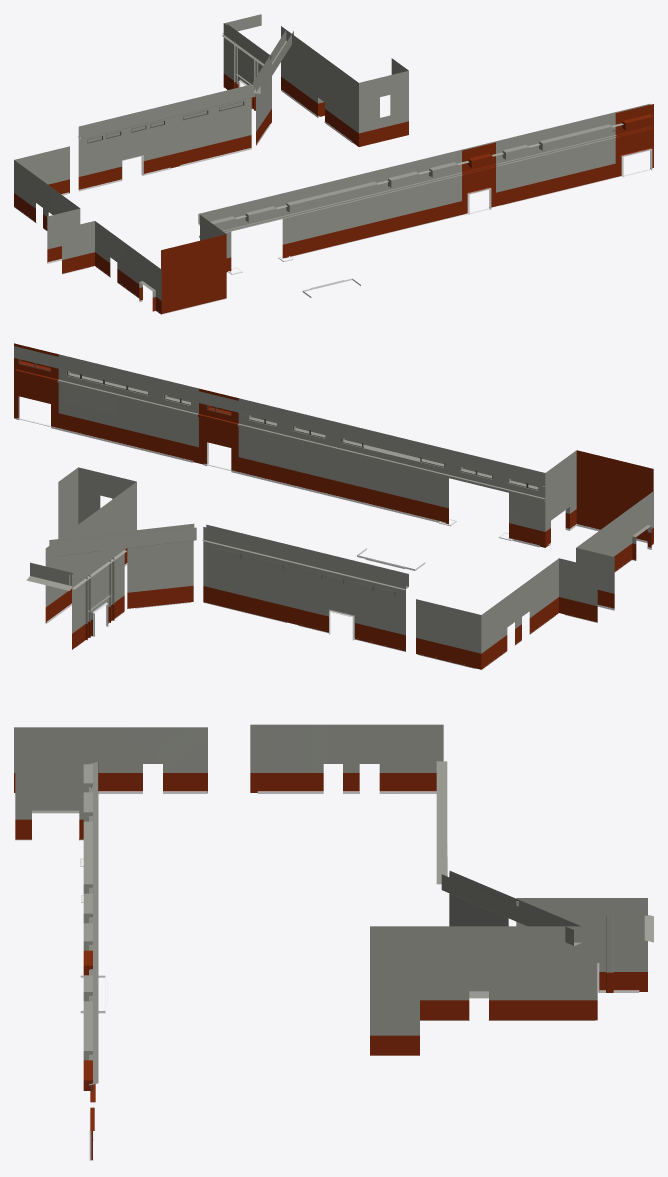
Rendered from SM_H_Building_Tide_Loungehall_10_ATLAS.fbx.
3 renders of one model, top to bottom at view 1: azimuth 30°, elevation 25°; view 2: azimuth 150°, elevation 25°; view 3: azimuth 270°, elevation 25°, orthographic. The views are drawn at different scales.
Parts seen in each view (by area): view 1: SM_H_Building_Tide_Loungehall_10_ATLAS; view 2: SM_H_Building_Tide_Loungehall_10_ATLAS; view 3: SM_H_Building_Tide_Loungehall_10_ATLAS.
Part boxes in pixels (bbox=[...]): SM_H_Building_Tide_Loungehall_10_ATLAS: bbox=[14, 14, 653, 314]; SM_H_Building_Tide_Loungehall_10_ATLAS: bbox=[14, 343, 653, 670]; SM_H_Building_Tide_Loungehall_10_ATLAS: bbox=[14, 724, 653, 1160].
Bounding box in the file's own units: 7562 × 5204 × 1406.
